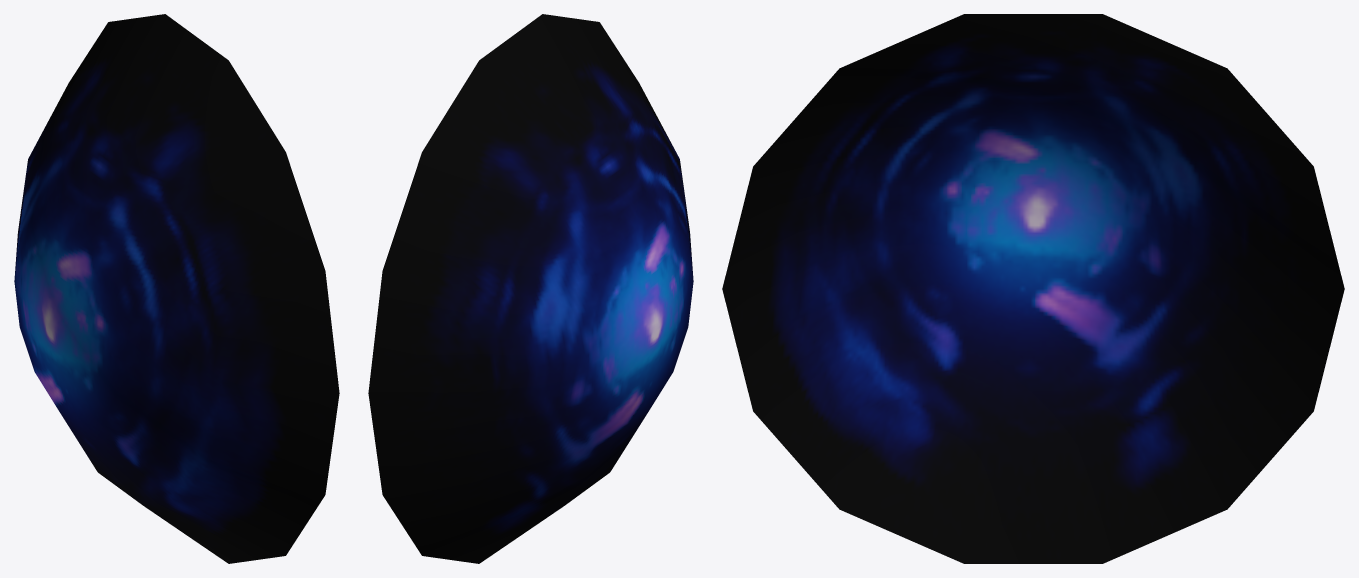
Rendered from fx_scenes_long01.FBX.
3 renders of one model, left to right at view 1: azimuth 30°, elevation 25°; view 2: azimuth 150°, elevation 25°; view 3: azimuth 270°, elevation 25°, orthographic. The views are drawn at different scales.
Parts seen in each view (by area): view 1: Sphere001; view 2: Sphere001; view 3: Sphere001.
Part boxes in pixels (x1,y1,x2,y2): Sphere001: (14,14,339,563); Sphere001: (368,14,693,563); Sphere001: (722,14,1344,563).
Bounding box in the file's own units: 23.7 × 78.9 × 76.92.
Materials: 1 (1 with a texture image).
